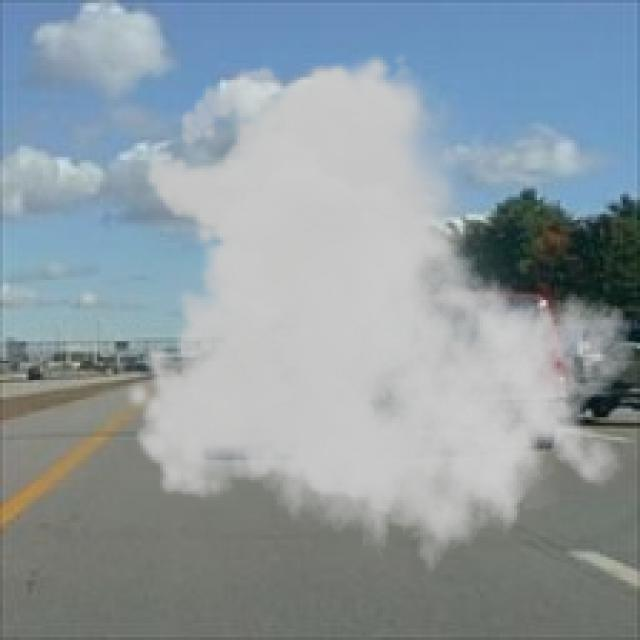Smoke: (122, 51, 638, 592)
